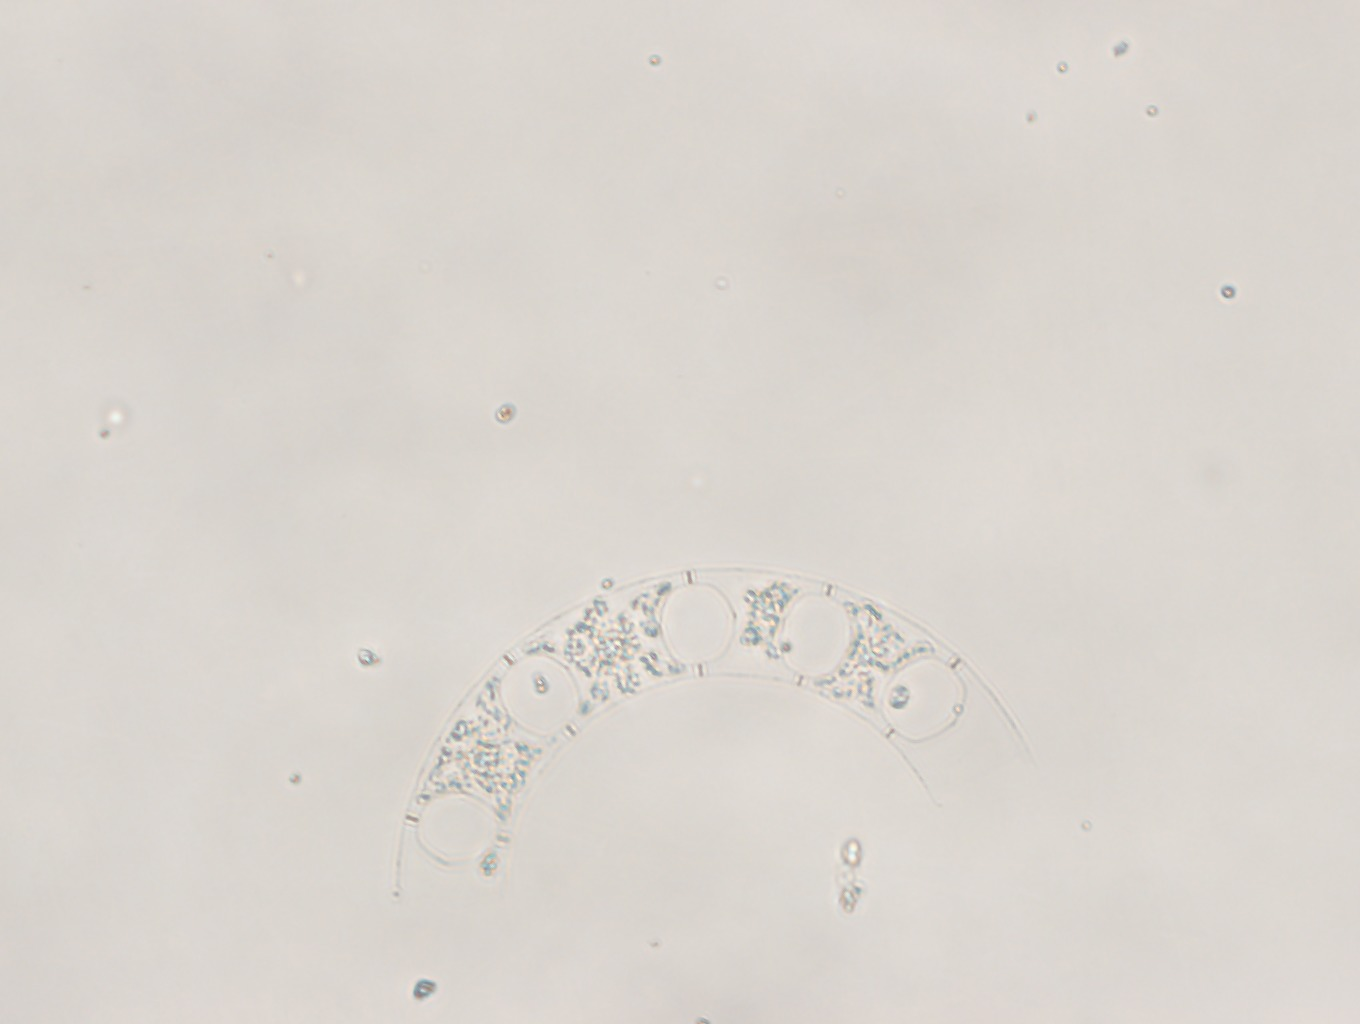eucampia: (383, 561, 1042, 905)
